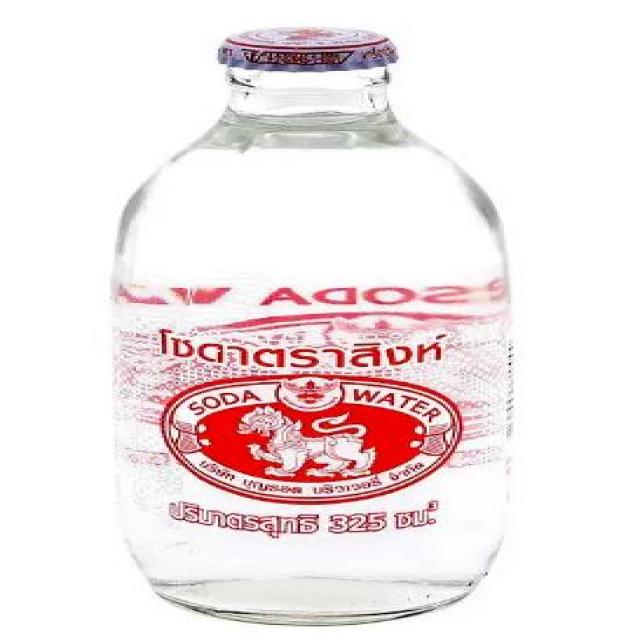glass-bottle: (95, 21, 534, 640)
